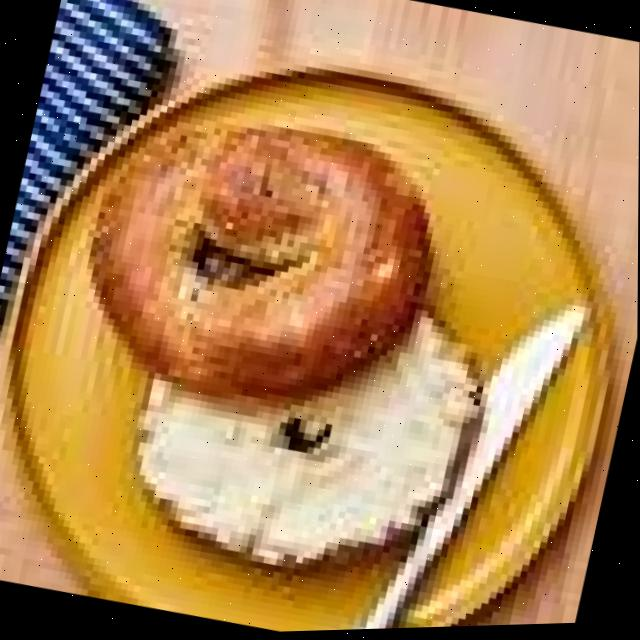Bagel: (93, 131, 427, 396), (140, 314, 479, 566)
